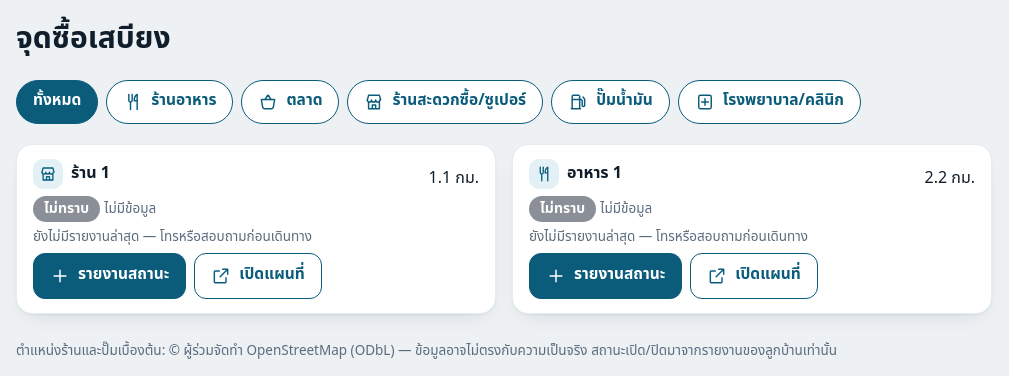
Test: category filter removes other categories
Check: the text "ร้าน 1" is shown, box [33, 158, 110, 188]
Check: the text "อาหาร 1" is shown, box [529, 158, 622, 188]
Click the button "ร้านอาหาร": (170,102) [106, 80, 233, 124]
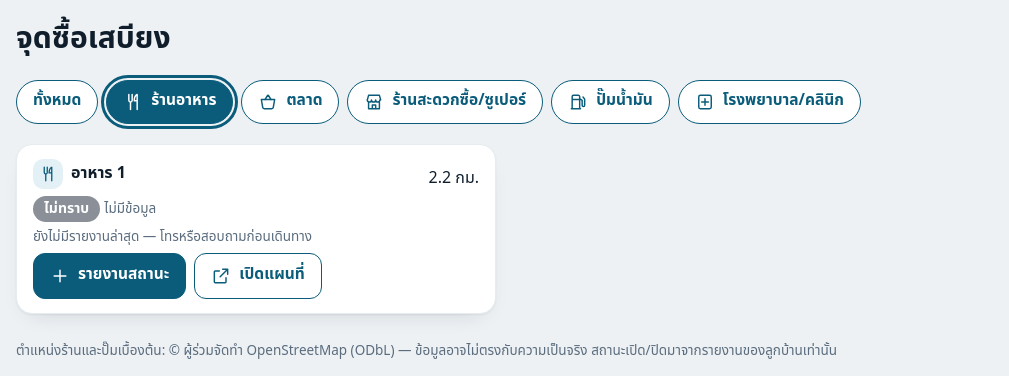
Check: the text "อาหาร 1" is shown, box [33, 158, 126, 188]
Check: the text "ร้าน 1" is gone
